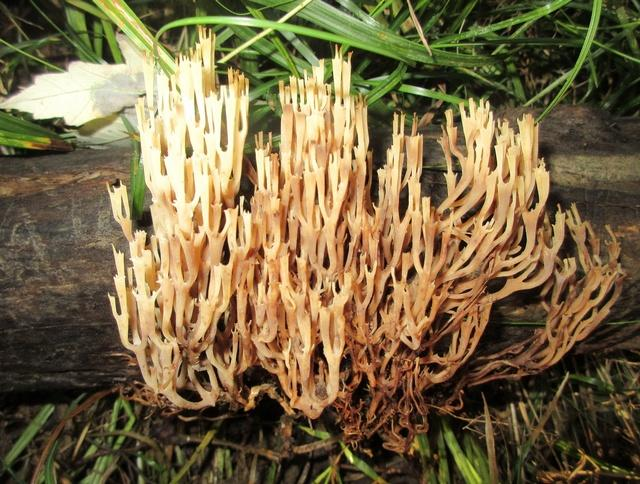edible_mushroom: (104, 24, 626, 454)
